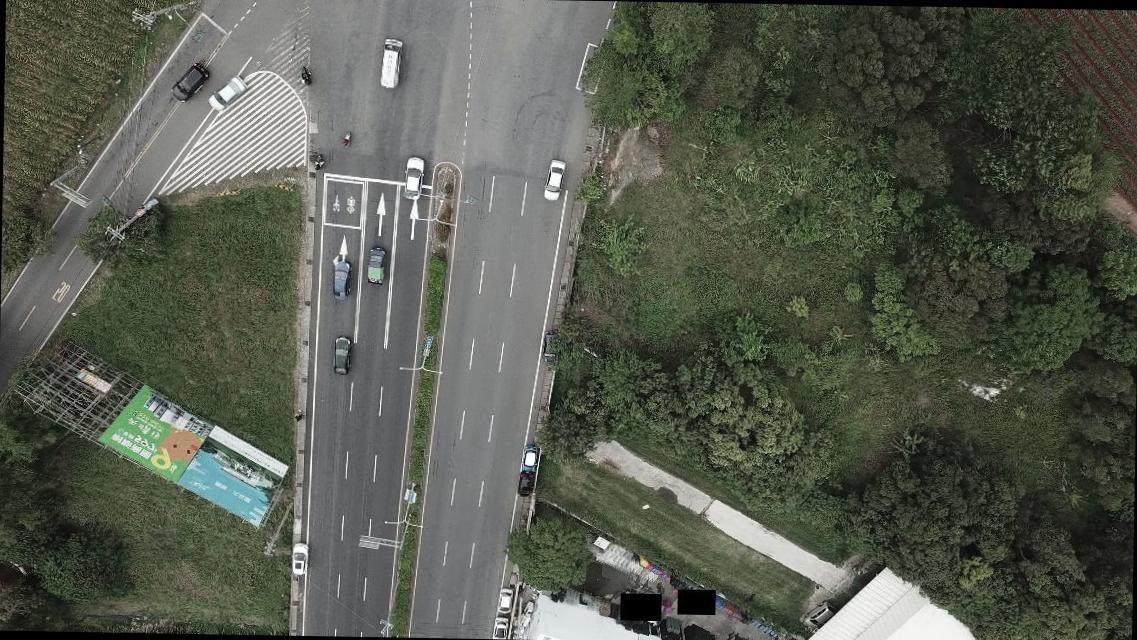vehicle: (170, 62, 208, 105), (210, 72, 248, 111), (378, 39, 404, 89), (400, 156, 427, 203), (328, 259, 355, 305), (542, 157, 568, 200), (803, 600, 836, 629), (330, 336, 351, 375), (366, 248, 386, 286), (292, 540, 310, 576), (521, 442, 541, 474), (540, 331, 557, 366), (496, 585, 516, 614), (489, 616, 510, 638), (515, 472, 533, 496)
